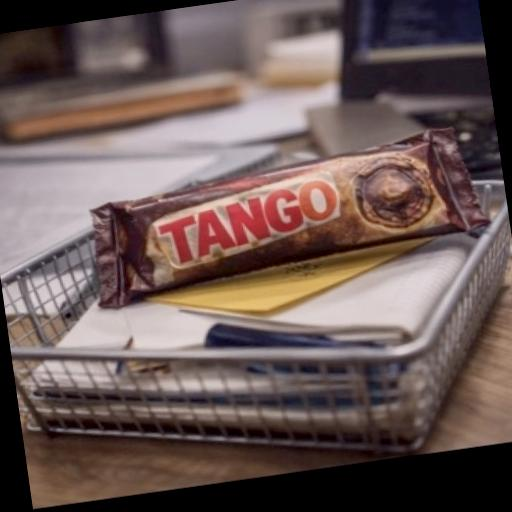tango: (44, 83, 512, 347)
